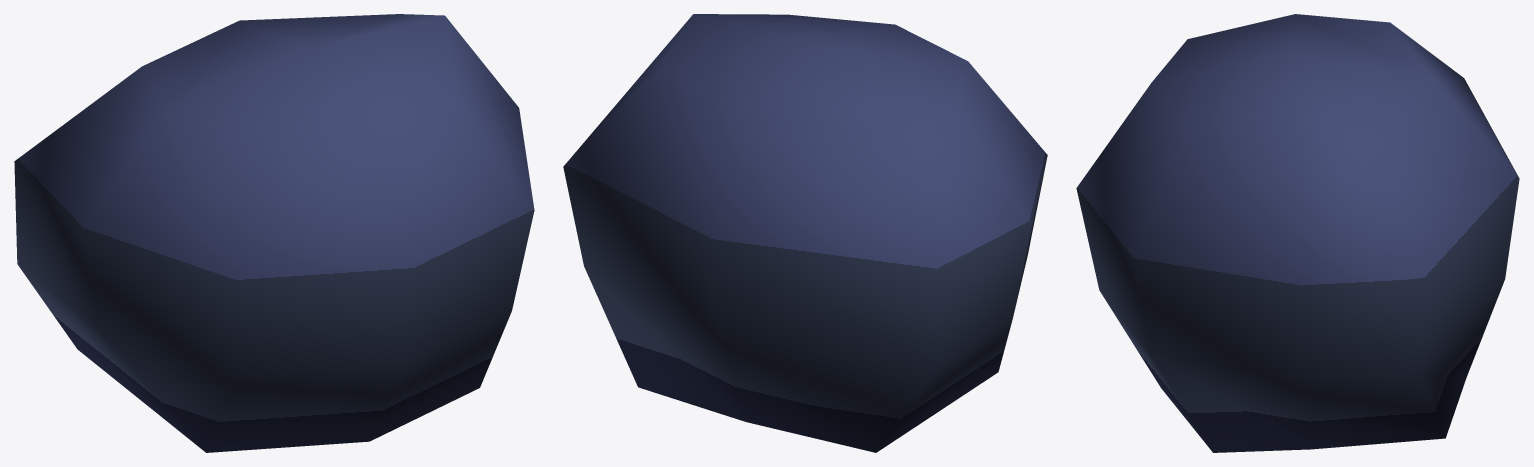
The model's file is map-rock-02.glb.
The picture shows the model from 3 angles, left to right: view 1: azimuth 30°, elevation 25°; view 2: azimuth 150°, elevation 25°; view 3: azimuth 270°, elevation 25°; orthographic projection. The views are drawn at different scales.
Visible parts, largest first — view 1: Rock02; view 2: Rock02; view 3: Rock02.
Boxes of the visible parts, x1,y1,x2,y2 form: Rock02: (14, 14, 534, 452); Rock02: (563, 14, 1047, 452); Rock02: (1076, 14, 1519, 452).
Size of the model in its own units: 8.23 by 6.15 by 7.32.
1 material, 1 textured.
